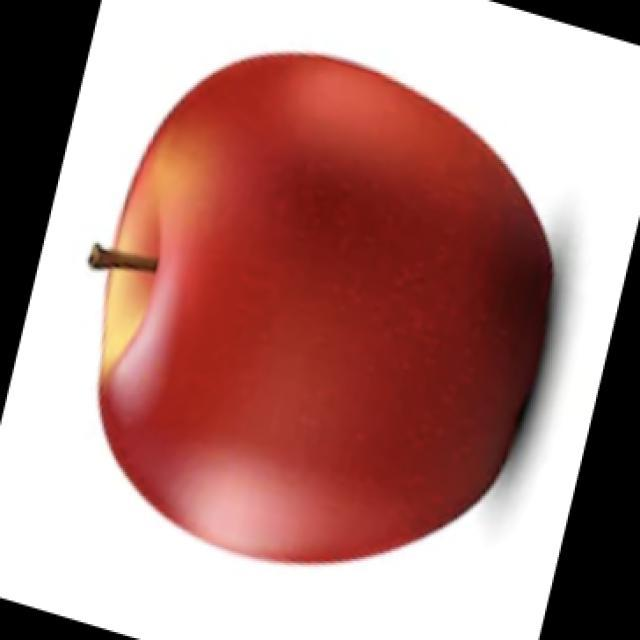Apple: (90, 50, 554, 564)
